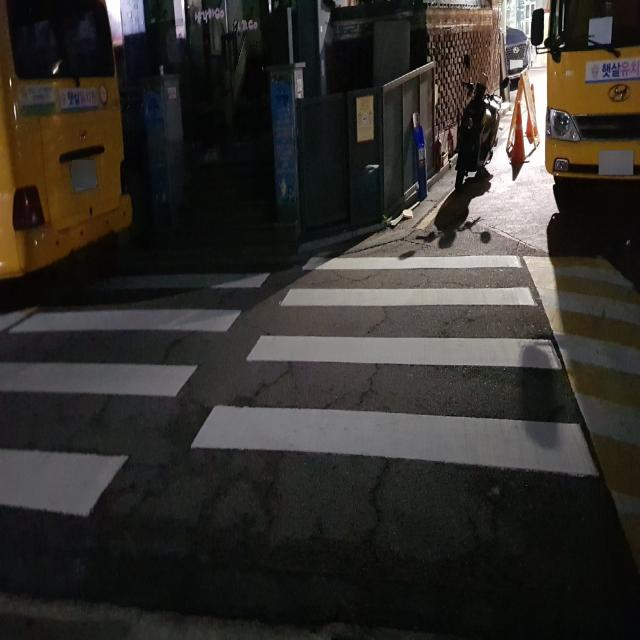횡단보도: (0, 250, 602, 523)
